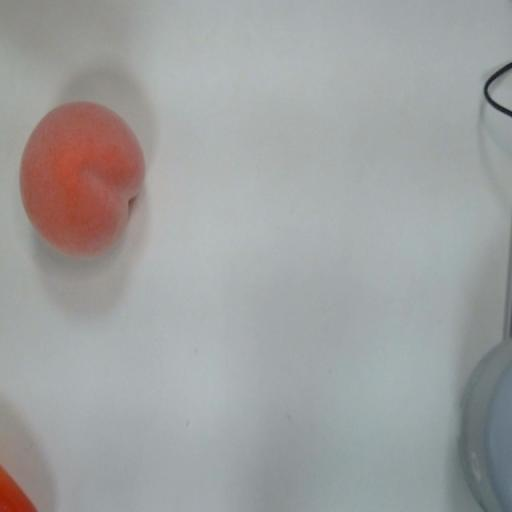Ripe: (13, 90, 160, 276)
